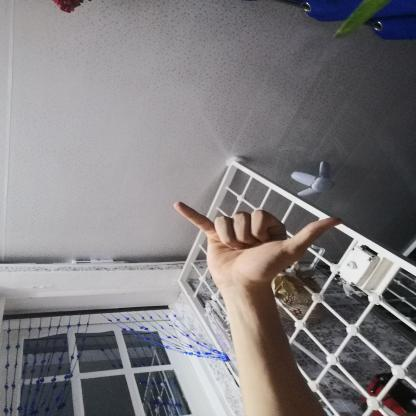YA: (157, 188, 358, 298)
